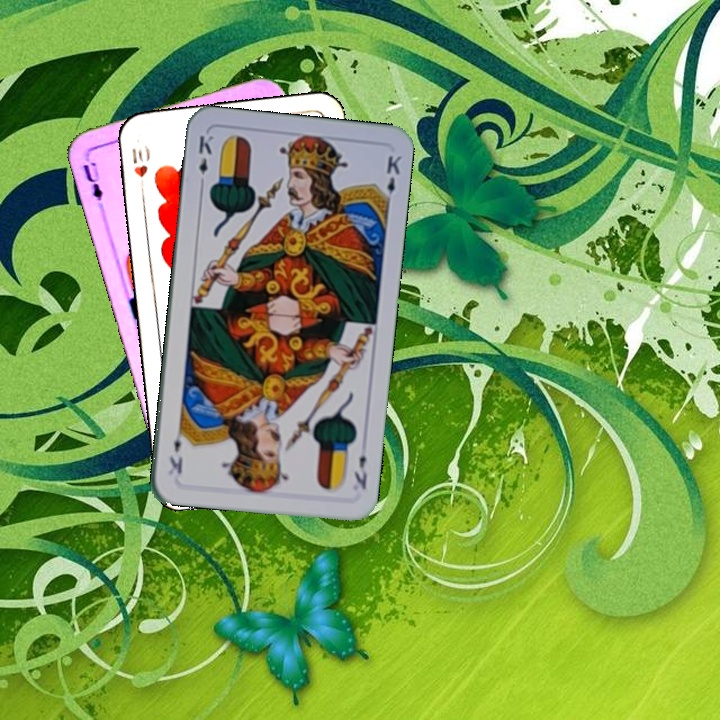EK: (195, 131, 216, 190), (350, 450, 370, 492)
EU: (78, 152, 108, 210)
H10: (128, 141, 153, 196)
